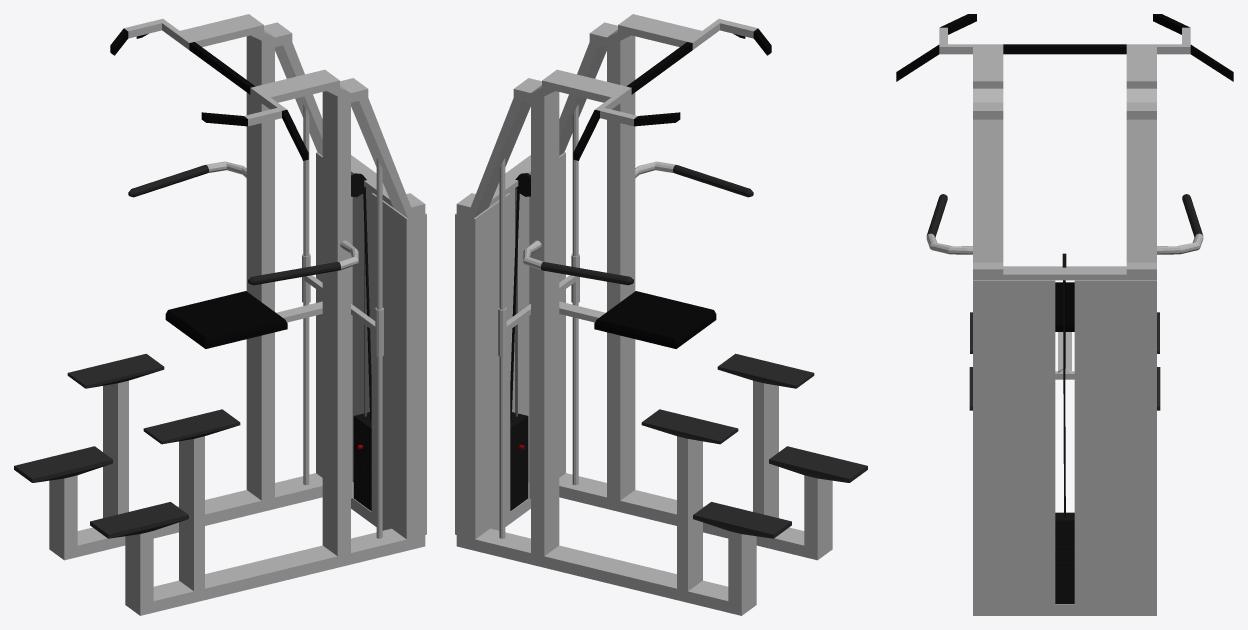
File: AssistedDipMachine.fbx
The picture shows the model from 3 angles, left to right: view 1: azimuth 30°, elevation 25°; view 2: azimuth 150°, elevation 25°; view 3: azimuth 270°, elevation 25°; orthographic projection.
Parts seen in each view (by area): view 1: AssistedDipMachine; view 2: AssistedDipMachine; view 3: AssistedDipMachine.
Part boxes in pixels (x1,y1,x2,y2): AssistedDipMachine: [14, 14, 426, 615]; AssistedDipMachine: [455, 14, 867, 615]; AssistedDipMachine: [896, 14, 1233, 615].
Bounding box in the file's own units: 164 × 239 × 148.
